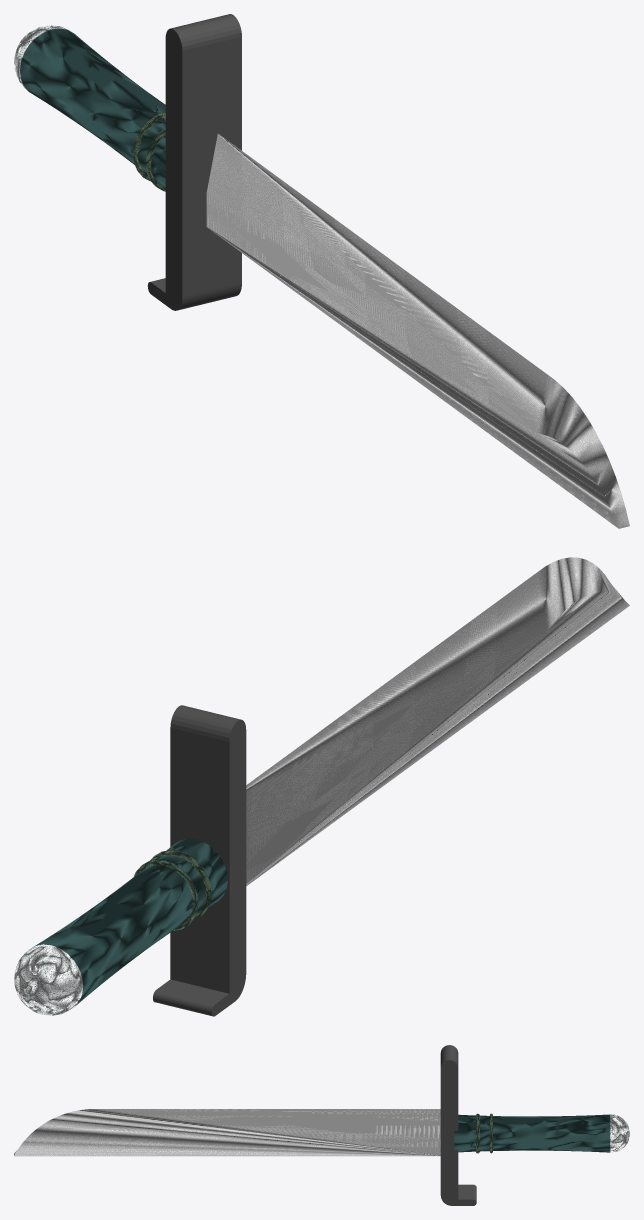
The model's file is model_align.obj.
The picture shows the model from 3 angles, top to bottom: view 1: azimuth 30°, elevation 25°; view 2: azimuth 150°, elevation 25°; view 3: azimuth 270°, elevation 25°; orthographic projection. The views are drawn at different scales.
Size of the model in its own units: 0.0128 by 0.0518 by 0.1982.
